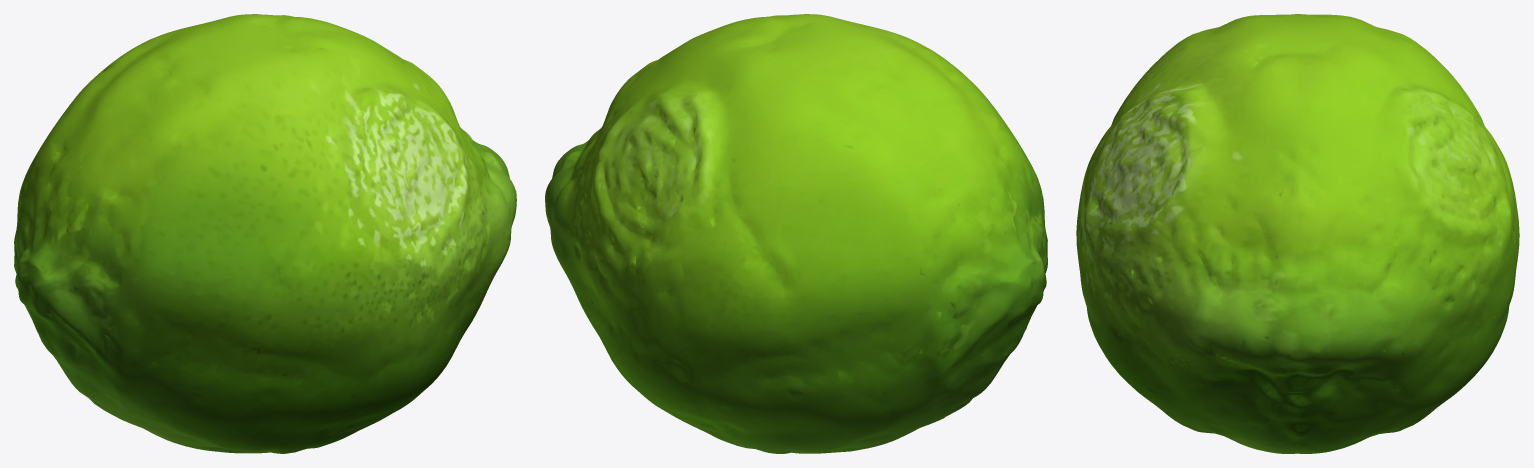
File: lime.glb
3 renders of one model, left to right at view 1: azimuth 30°, elevation 25°; view 2: azimuth 150°, elevation 25°; view 3: azimuth 270°, elevation 25°, orthographic.
Visible parts, largest first — view 1: geometry_0; view 2: geometry_0; view 3: geometry_0.
Boxes of the visible parts, x1,y1,x2,y2 form: geometry_0: (14, 14, 516, 453); geometry_0: (545, 14, 1047, 453); geometry_0: (1076, 14, 1519, 453).
Bounding box in the file's own units: 0.9796 × 0.7726 × 0.7922.
1 material, 1 textured.
